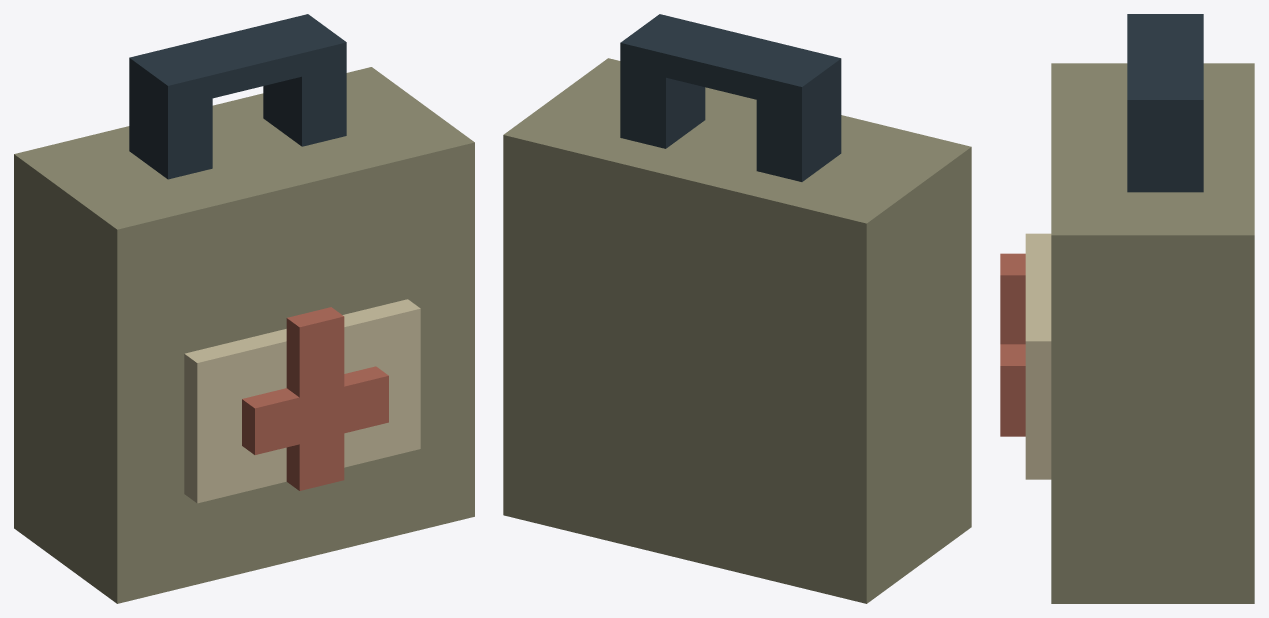
Rendered from civic-14.glb.
3 renders of one model, left to right at view 1: azimuth 30°, elevation 25°; view 2: azimuth 150°, elevation 25°; view 3: azimuth 270°, elevation 25°, orthographic. The views are drawn at different scales.
Visible parts, largest first — view 1: Emergency kit; view 2: Emergency kit; view 3: Emergency kit.
Boxes of the visible parts, box(x1,y1,x2,y2) form: Emergency kit: box(14, 14, 474, 603); Emergency kit: box(503, 14, 971, 603); Emergency kit: box(1000, 14, 1254, 603).
Size of the model in its own units: 1.28 by 1.6 by 0.8.
